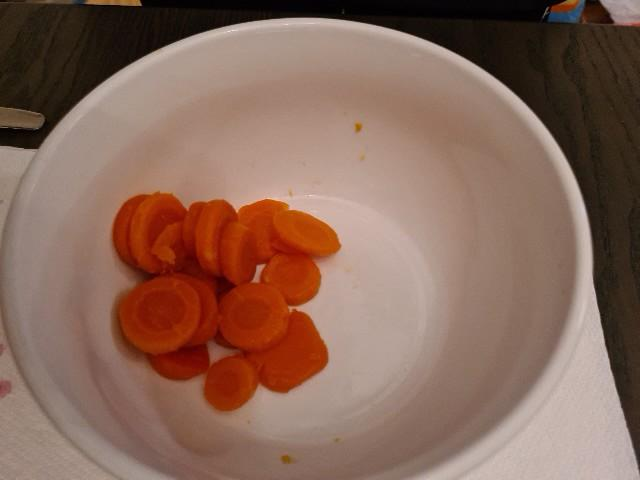kichen waste: (113, 193, 341, 411)
